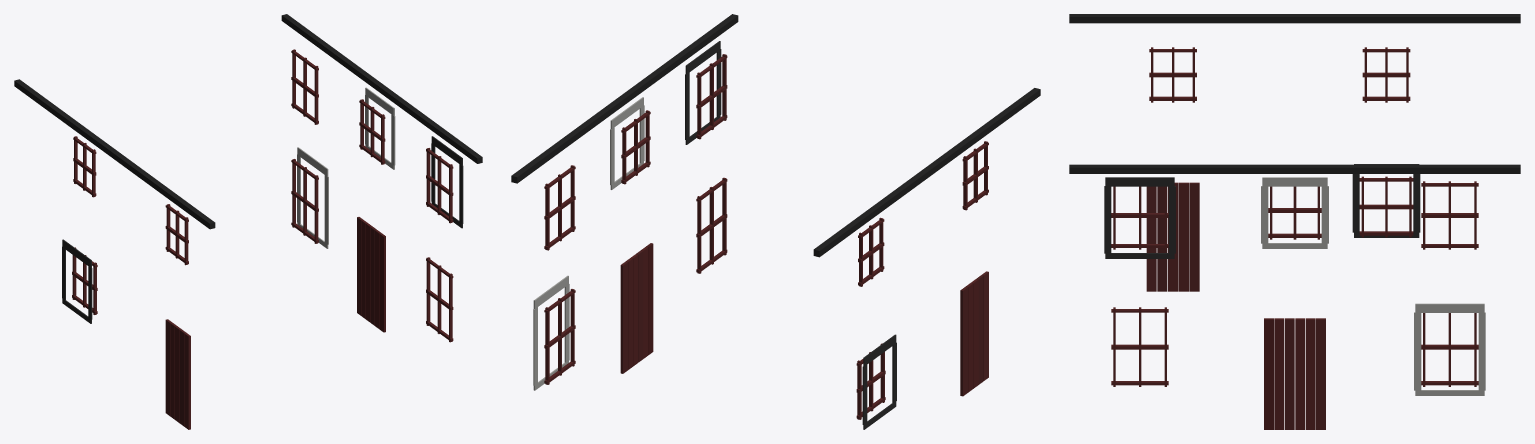
File: SM_Bld_098_Wood.glb
3 views of the same model, side by side, from view 1: azimuth 30°, elevation 25°; view 2: azimuth 150°, elevation 25°; view 3: azimuth 270°, elevation 25° (orthographic). The views are drawn at different scales.
Visible parts, largest first — view 1: SM_Bld_098_Wood; view 2: SM_Bld_098_Wood; view 3: SM_Bld_098_Wood.
Part boxes in pixels (x1,y1,x2,y2): SM_Bld_098_Wood: (14, 14, 482, 429); SM_Bld_098_Wood: (511, 14, 1040, 429); SM_Bld_098_Wood: (1069, 14, 1520, 429).
Size of the model in its own units: 6.11 by 5 by 7.59.
